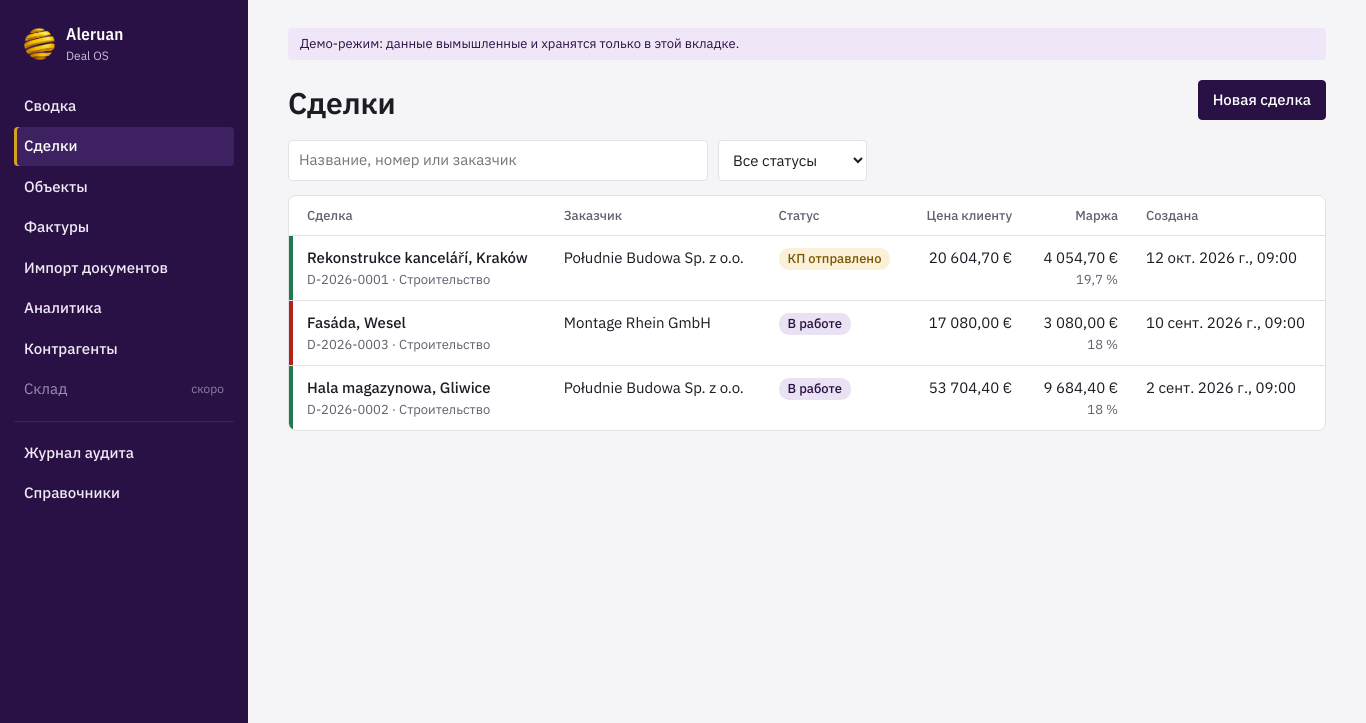
Test: deal screens › lists the demo deal and opens it with totals and lines
This screenshot has width=1366, height=723.
Click the link "Rekonstrukce kanceláří, Kraków" at coordinates (417, 258), box [307, 248, 528, 267]
(page scrolled)
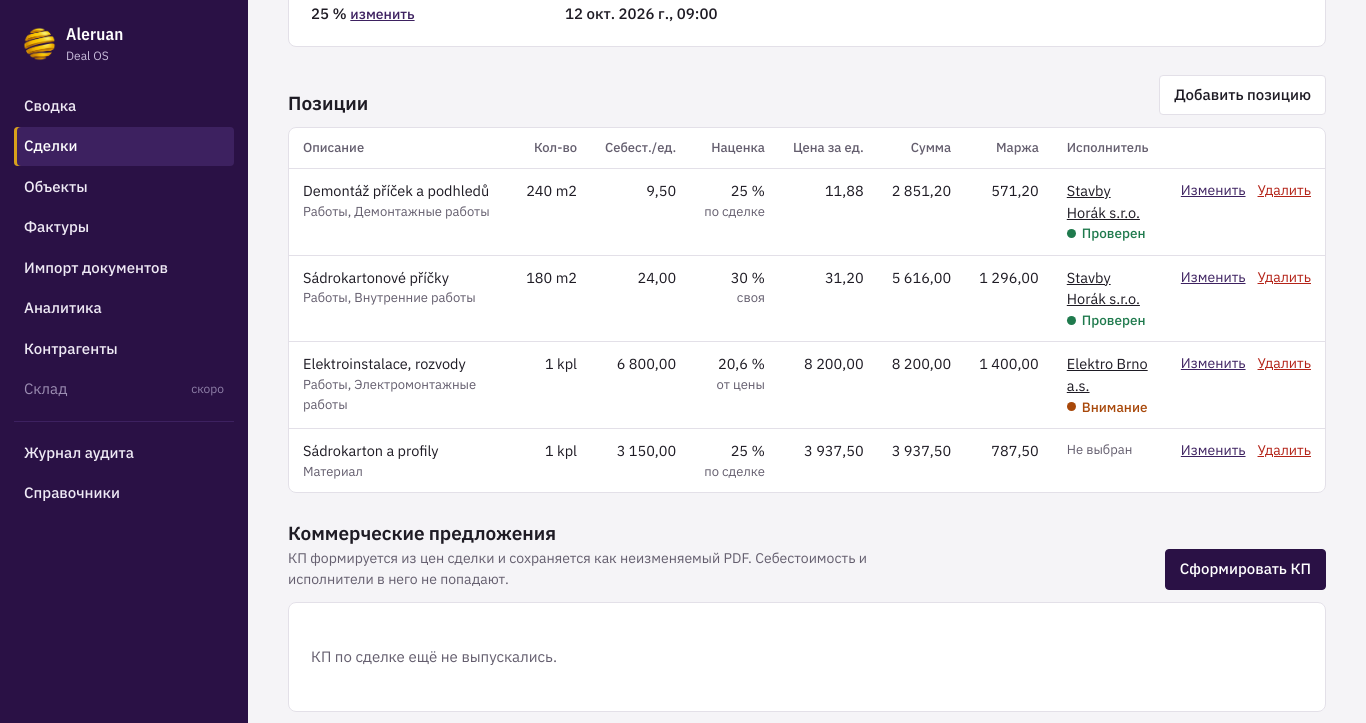
Check: the text "Sádrokartonové příčky" is shown, box [303, 268, 449, 286]
Check: the text "от цены" is shown, box [717, 376, 765, 393]
